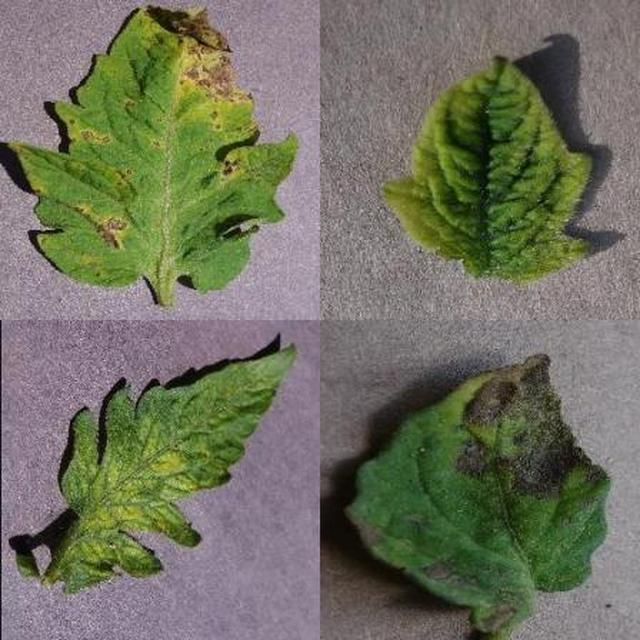Septoria Leaf: (221, 210, 640, 640)
